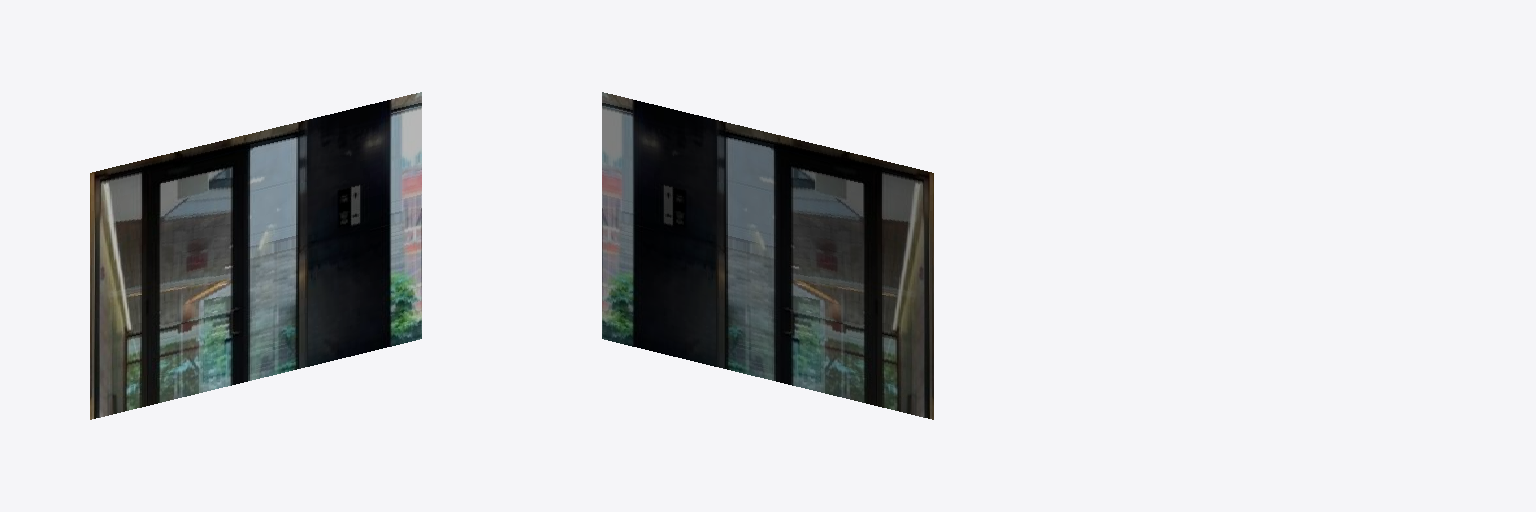
3 views of the same model, side by side, from view 1: azimuth 30°, elevation 25°; view 2: azimuth 150°, elevation 25°; view 3: azimuth 270°, elevation 25° (orthographic).
Visible parts, largest first — view 1: Plane; view 2: Plane; view 3: none.
Boxes of the visible parts, <box> form: Plane: <box>90,92,421,419</box>; Plane: <box>602,92,933,419</box>.
Size of the model in its own units: 3.12 by 2.21 by 0.
Materials: 1 (1 with a texture image).